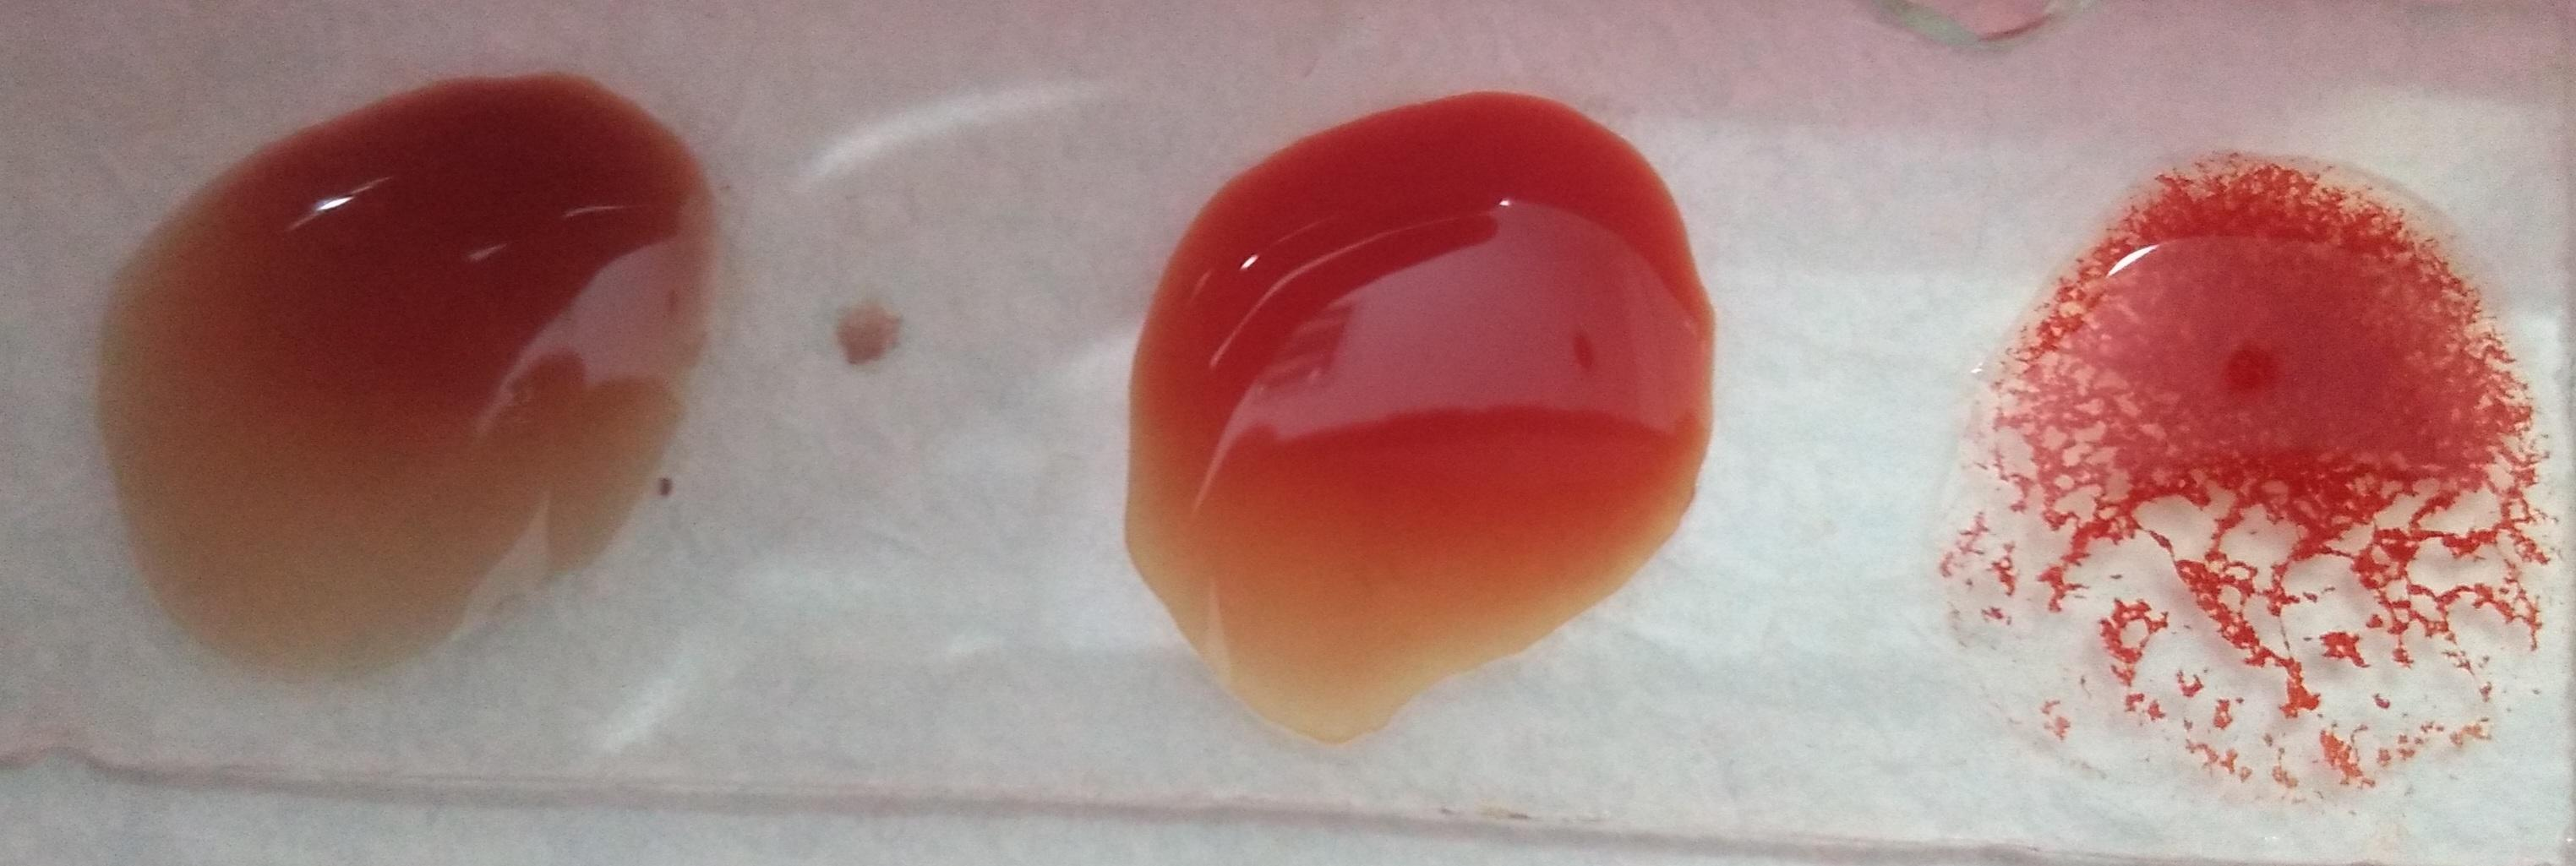D: (1939, 177, 2571, 799)
